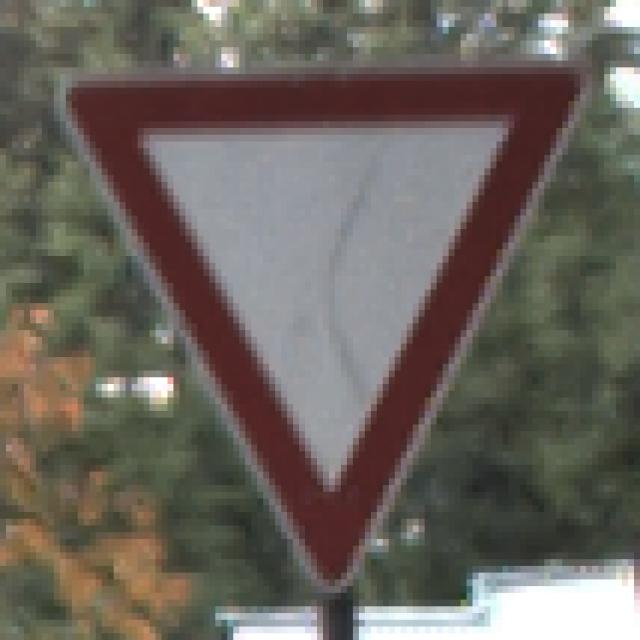Give Way: (61, 55, 587, 587)
